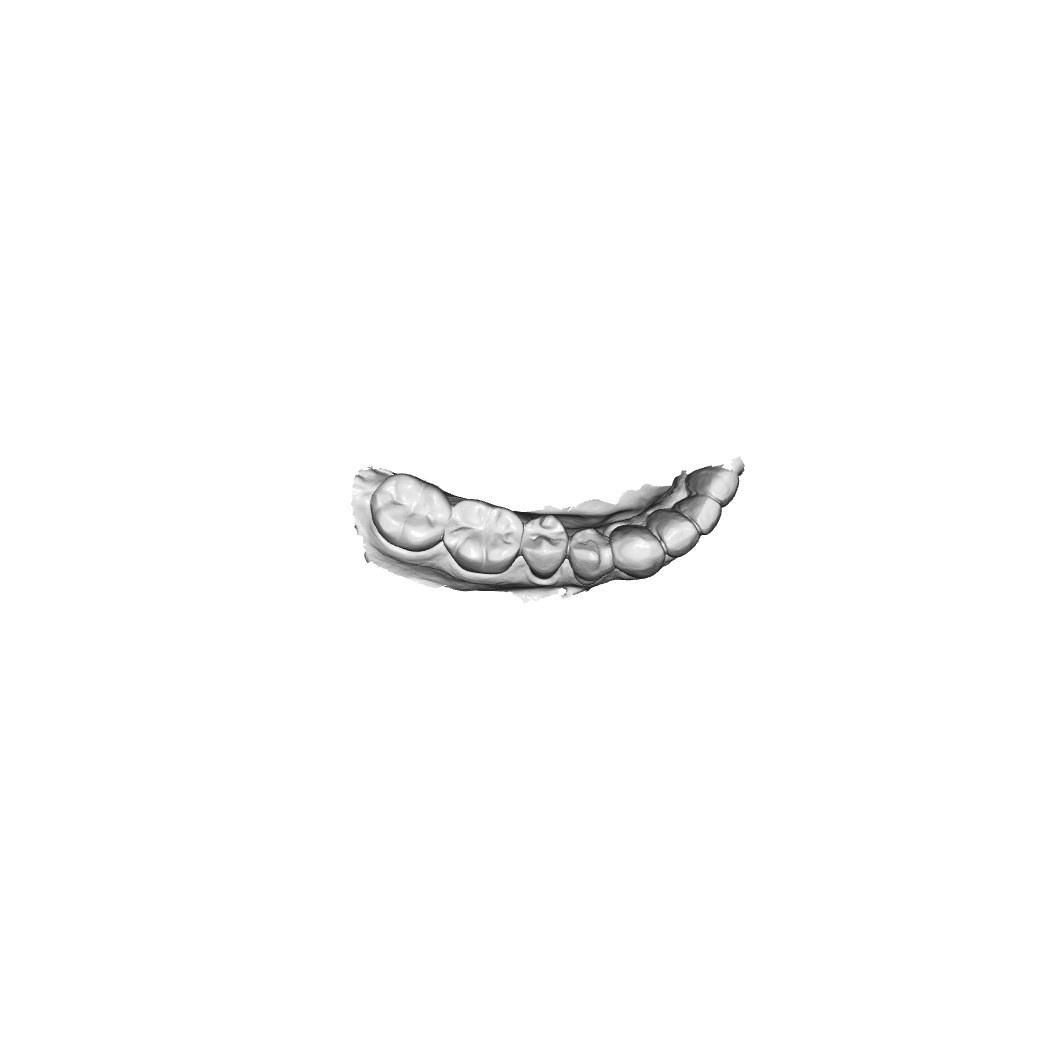canine: (615, 523, 663, 576)
incisor: (655, 510, 696, 564), (688, 464, 740, 505), (682, 494, 727, 534)
molar: (369, 469, 448, 545), (449, 500, 520, 567)
premolar: (568, 527, 616, 584), (524, 515, 569, 574)
